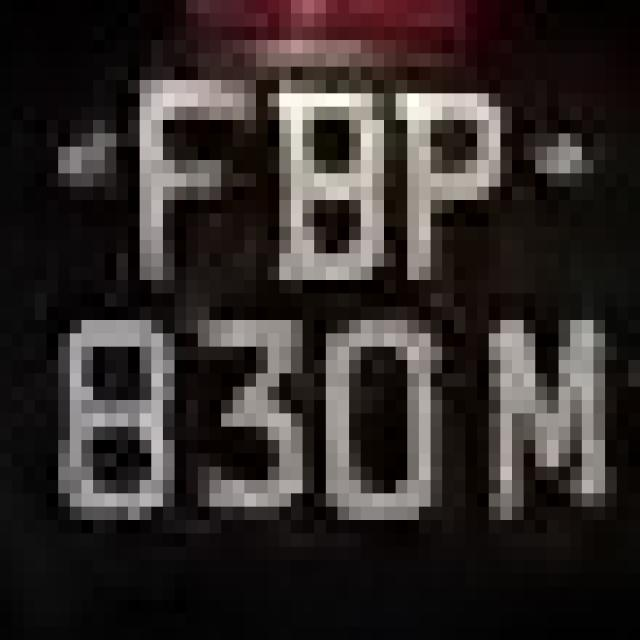0: (303, 266, 442, 546)
3: (175, 280, 302, 600)
8: (35, 280, 198, 533)
B: (244, 66, 384, 306)
F: (116, 40, 245, 333)
M: (466, 307, 628, 613)
P: (372, 67, 500, 320)
